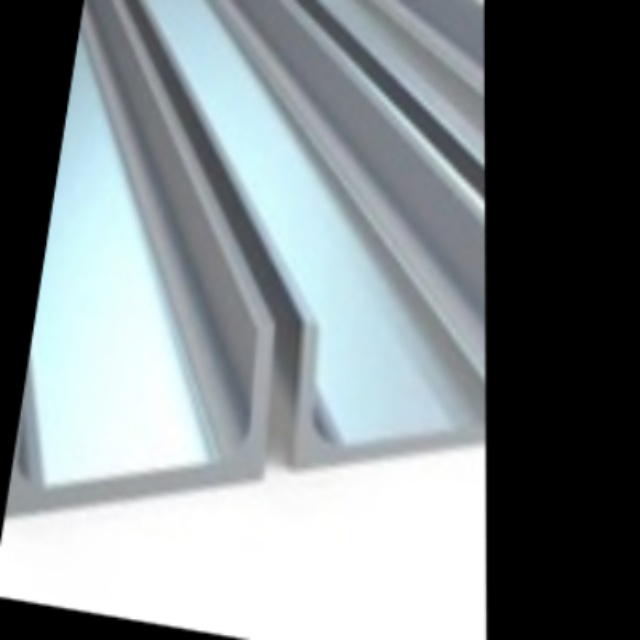Shveller: (5, 312, 268, 548), (301, 278, 486, 483)
